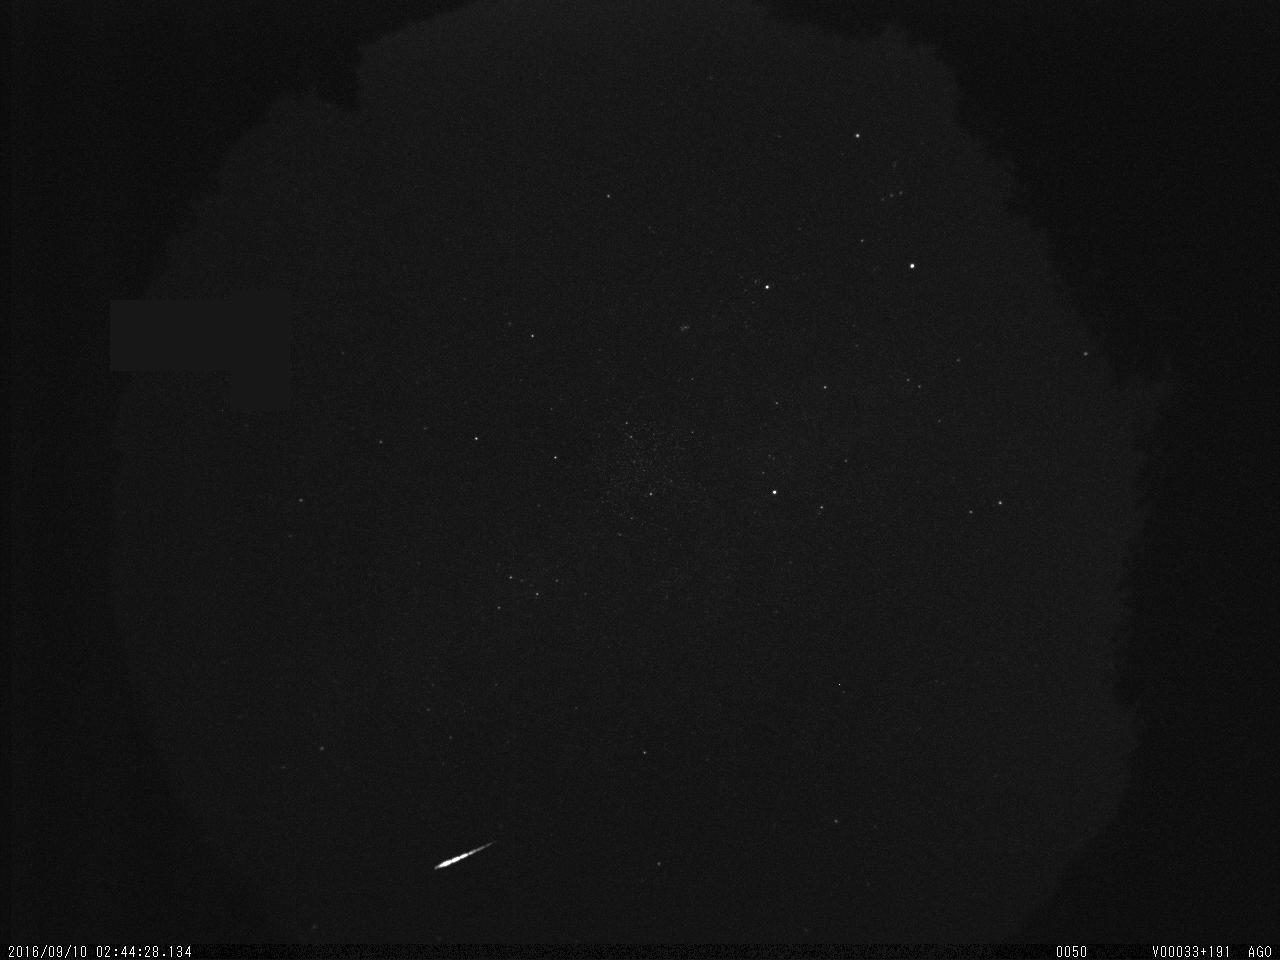Meteor: (427, 833, 507, 880)
